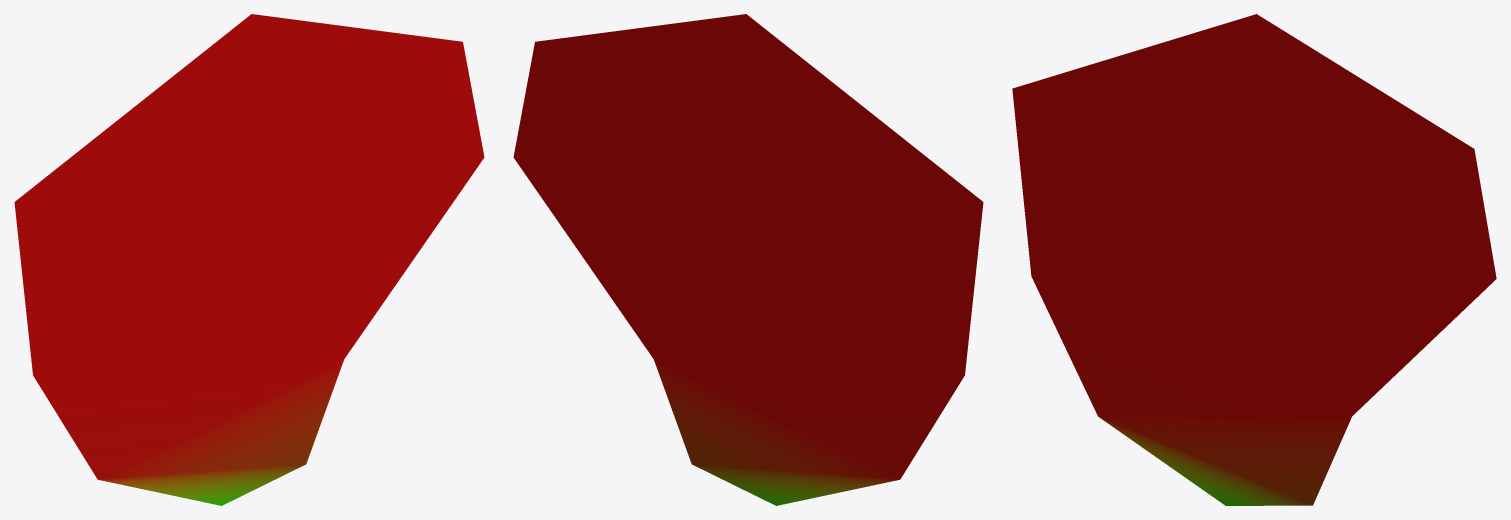
File: European Spindle_LOD4_Var9.fbx
3 views of the same model, side by side, from view 1: azimuth 30°, elevation 25°; view 2: azimuth 150°, elevation 25°; view 3: azimuth 330°, elevation 25° (orthographic). The views are drawn at different scales.
Parts seen in each view (by area): view 1: _tmap_Var9_LOD4; view 2: _tmap_Var9_LOD4; view 3: _tmap_Var9_LOD4.
Boxes of the visible parts, <box> form: _tmap_Var9_LOD4: <box>14,14,484,505</box>; _tmap_Var9_LOD4: <box>513,14,983,505</box>; _tmap_Var9_LOD4: <box>1012,14,1496,505</box>.
Bounding box in the file's own units: 164 × 162 × 1.46e-11.
